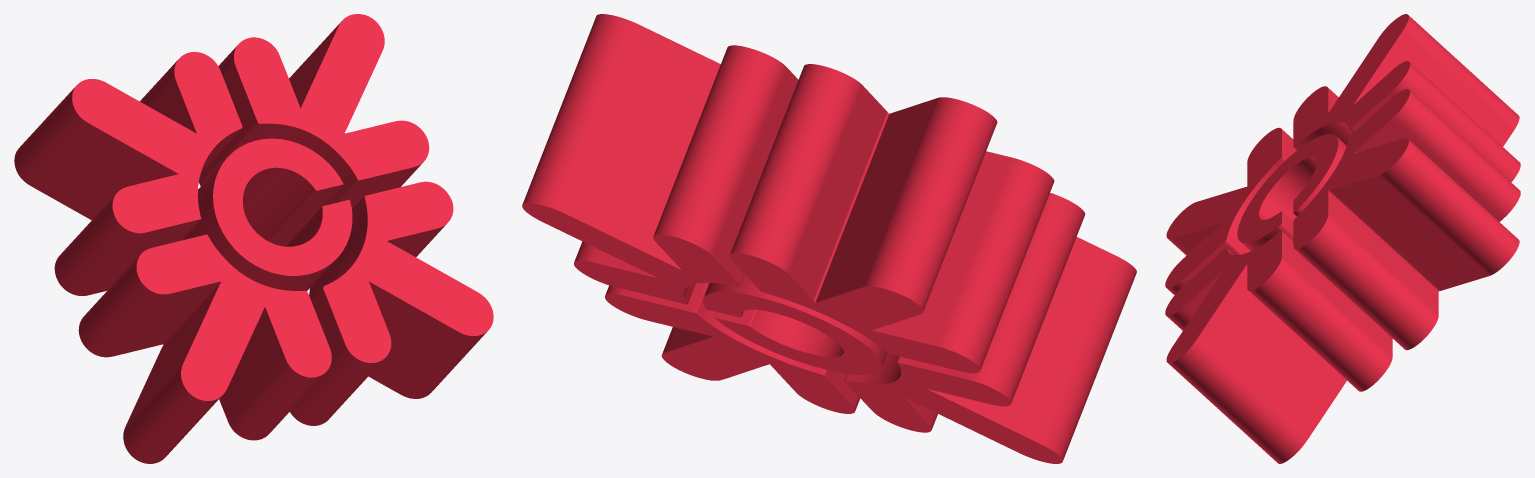
The model's file is Button.gltf.
3 views of the same model, side by side, from view 1: azimuth 30°, elevation 25°; view 2: azimuth 150°, elevation 25°; view 3: azimuth 270°, elevation 25° (orthographic). The views are drawn at different scales.
Parts seen in each view (by area): view 1: Curve; view 2: Curve; view 3: Curve.
Part boxes in pixels (x1,y1,x2,y2): Curve: [14, 14, 493, 463]; Curve: [522, 14, 1136, 463]; Curve: [1165, 14, 1520, 463].
Bounding box in the file's own units: 0.1026 × 0.1051 × 0.1053.
